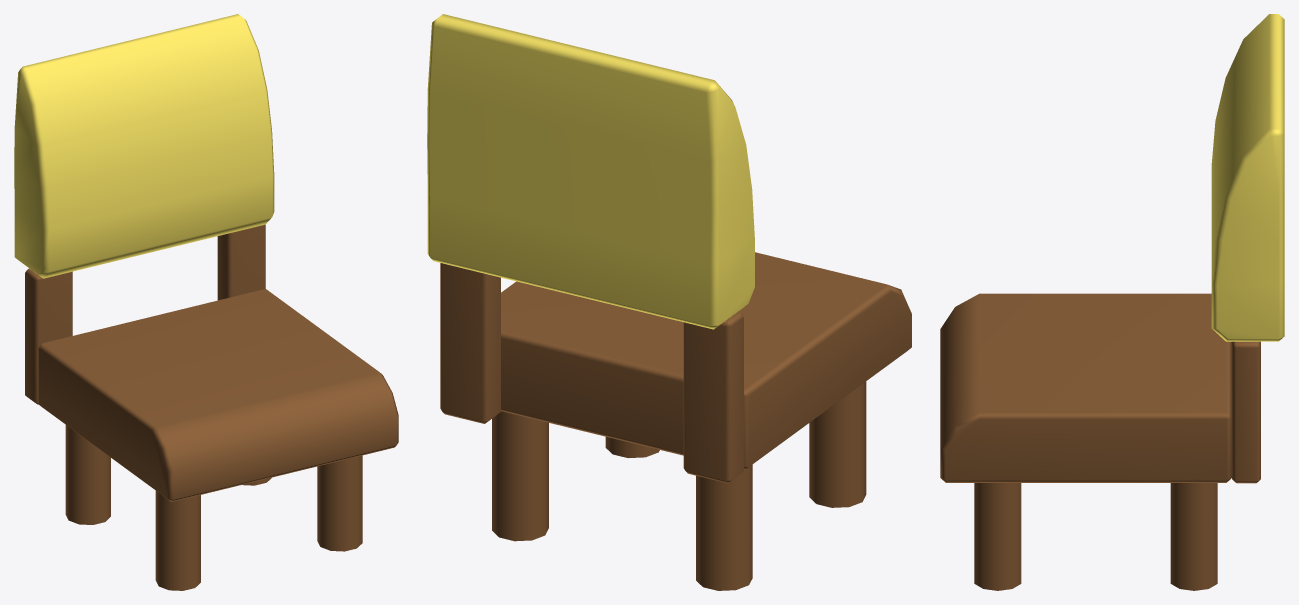
The model's file is Chair_Brown_NEW.fbx.
The picture shows the model from 3 angles, left to right: view 1: azimuth 30°, elevation 25°; view 2: azimuth 150°, elevation 25°; view 3: azimuth 270°, elevation 25°; orthographic projection. The views are drawn at different scales.
Parts seen in each view (by area): view 1: Chair_Brown; view 2: Chair_Brown; view 3: Chair_Brown.
Boxes of the visible parts, left/top/right/bottom form: Chair_Brown: left=14, top=14, right=398, bottom=590; Chair_Brown: left=427, top=14, right=911, bottom=590; Chair_Brown: left=940, top=14, right=1284, bottom=590.
Size of the model in its own units: 72.29 by 127 by 85.
